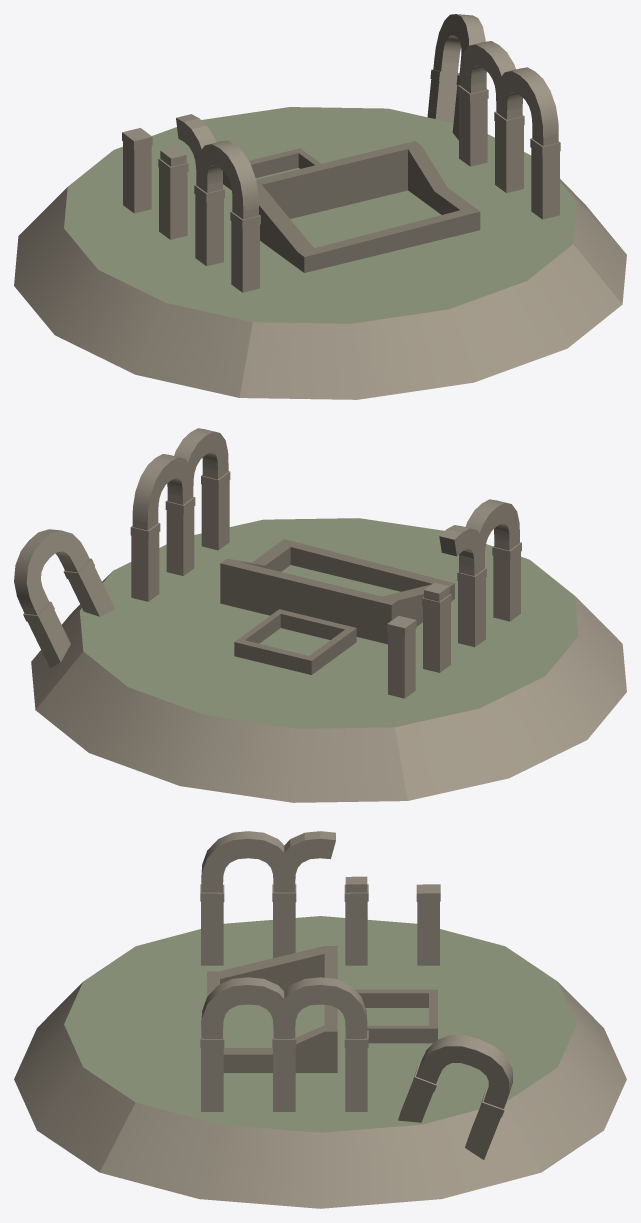
The model's file is bark_noria.fbx.
3 views of the same model, one above another, from view 1: azimuth 30°, elevation 25°; view 2: azimuth 150°, elevation 25°; view 3: azimuth 270°, elevation 25° (orthographic). The views are drawn at different scales.
Visible parts, largest first — view 1: polySurface12; view 2: polySurface12; view 3: polySurface12.
Boxes of the visible parts, x1=… form: polySurface12: x1=14, y1=14, x2=626, y2=399; polySurface12: x1=14, y1=428, x2=626, y2=802; polySurface12: x1=14, y1=831, x2=626, y2=1208.
Bounding box in the file's own units: 10.12 × 3.31 × 10.12.
